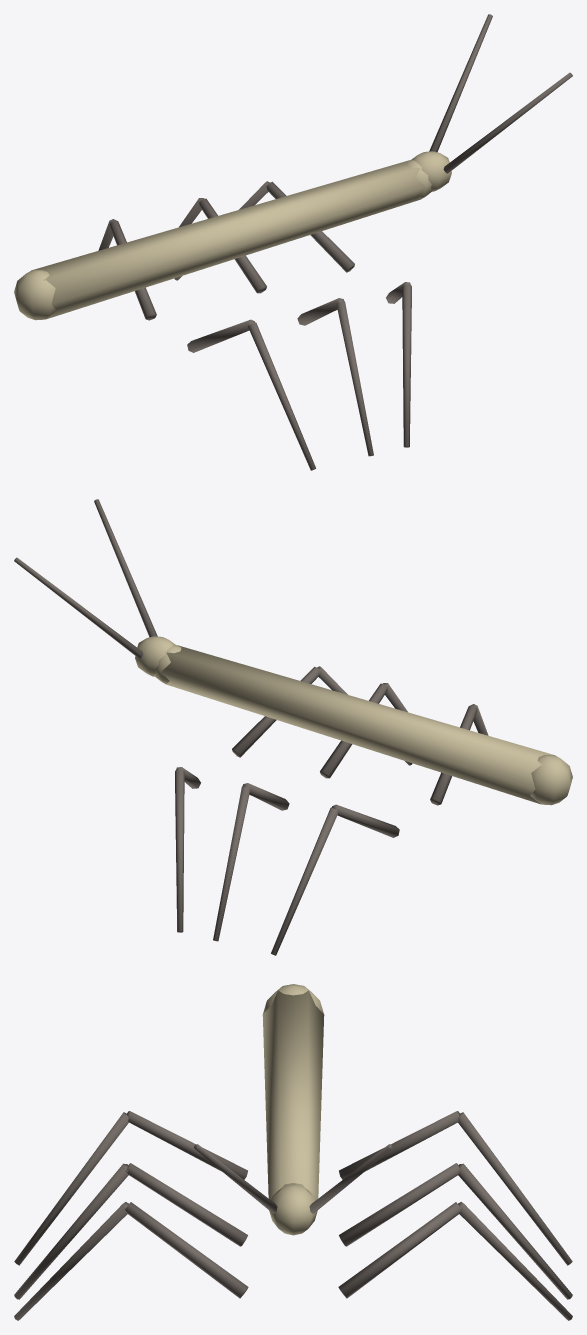
The model's file is six-spotted-stick-insect.glb.
The picture shows the model from 3 angles, top to bottom: view 1: azimuth 30°, elevation 25°; view 2: azimuth 150°, elevation 25°; view 3: azimuth 270°, elevation 25°; orthographic projection. The views are drawn at different scales.
Parts seen in each view (by area): view 1: e; view 2: e; view 3: e.
Boxes of the visible parts, x1,y1,x2,y2 form: e: (14,14,572,470); e: (14,499,572,955); e: (14,984,572,1320).
Size of the model in its own units: 0.5236 by 0.2548 by 0.4095.
